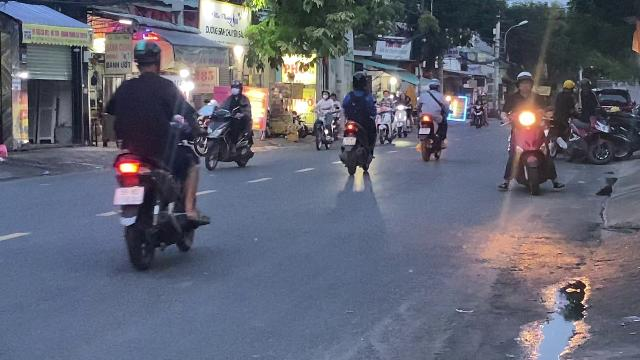helmet: (130, 38, 164, 74), (514, 71, 534, 93), (352, 70, 370, 89), (229, 79, 243, 95)
licenseplate: (114, 187, 144, 205)
motorcyclist: (102, 36, 208, 272), (498, 70, 560, 194), (334, 66, 382, 180), (203, 78, 257, 172)
